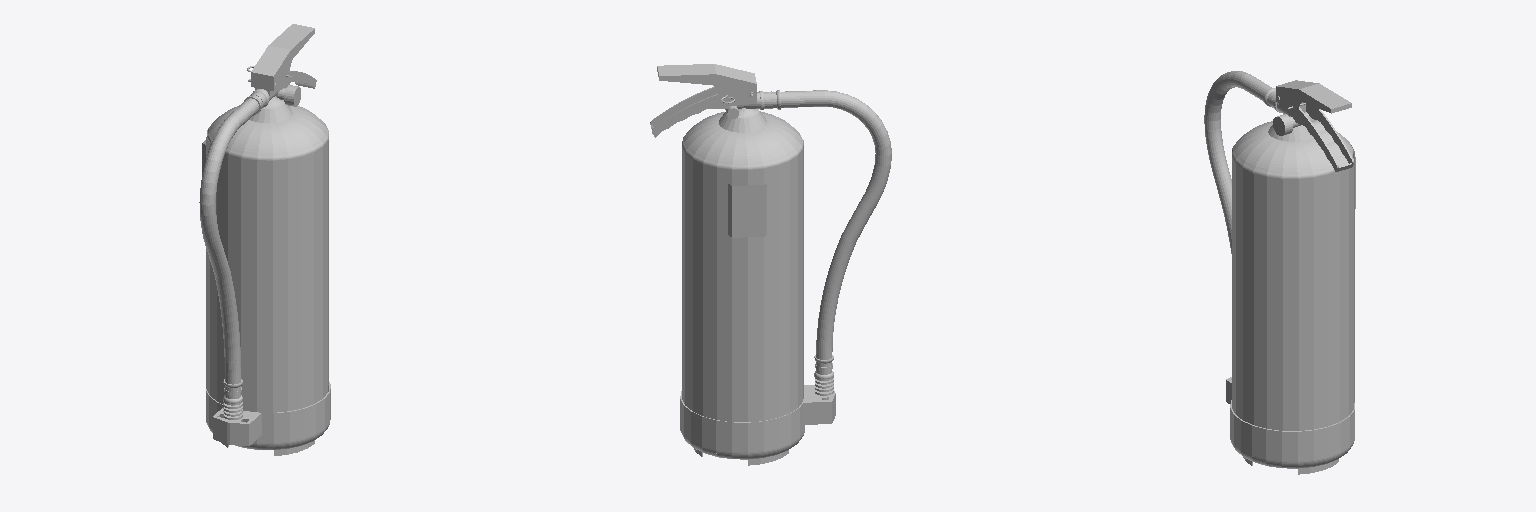
Rendered from fire extinguisher.obj.
3 renders of one model, left to right at view 1: azimuth 30°, elevation 25°; view 2: azimuth 150°, elevation 25°; view 3: azimuth 270°, elevation 25°, orthographic.
Parts seen in each view (by area): view 1: Extintor_0; view 2: Extintor_0; view 3: Extintor_0.
Part boxes in pixels (x1,y1,x2,y2): Extintor_0: (199, 24, 330, 455); Extintor_0: (650, 64, 891, 465); Extintor_0: (1204, 71, 1355, 474).
Size of the model in its own units: 218 by 441 by 161.